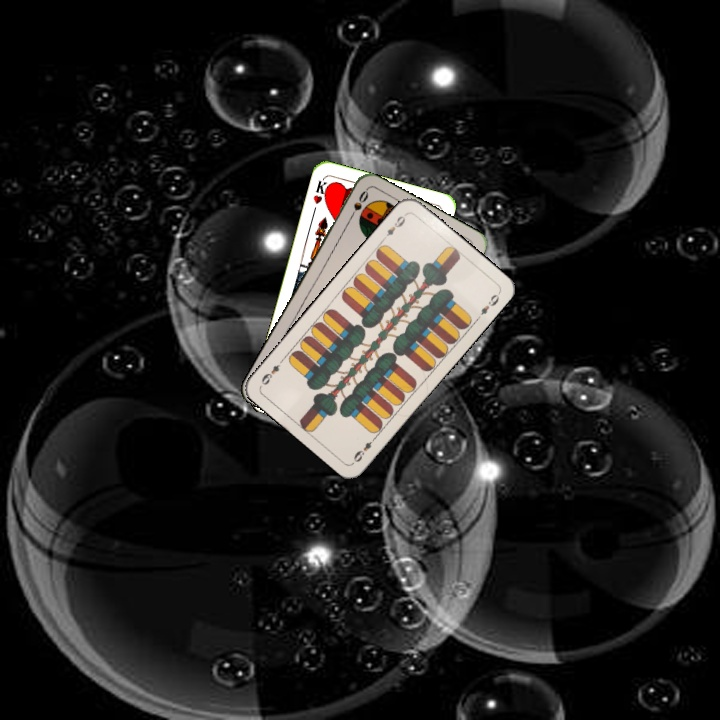E9: (349, 432, 380, 465), (382, 209, 409, 239)
HK: (309, 175, 333, 215)
SO: (345, 186, 371, 224)
